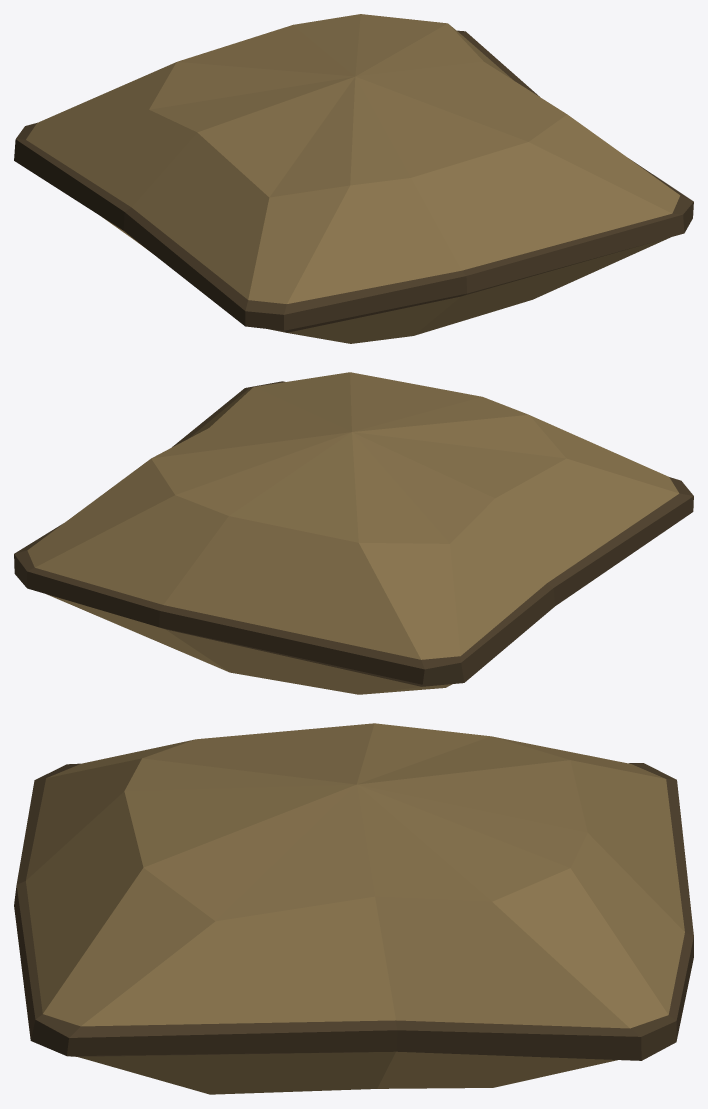
Rendered from SM_Prop_Pillow_03.fbx.
3 views of the same model, one above another, from view 1: azimuth 30°, elevation 25°; view 2: azimuth 150°, elevation 25°; view 3: azimuth 270°, elevation 25° (orthographic). The views are drawn at different scales.
Parts seen in each view (by area): view 1: SM_Prop_Pillow_03; view 2: SM_Prop_Pillow_03; view 3: SM_Prop_Pillow_03.
Part boxes in pixels (x1,y1,x2,y2): SM_Prop_Pillow_03: (14, 14, 693, 343); SM_Prop_Pillow_03: (14, 372, 693, 694); SM_Prop_Pillow_03: (14, 723, 693, 1094).
Size of the model in its own units: 0.4703 by 0.2043 by 0.4929.
Materials: 1 (1 with a texture image).
